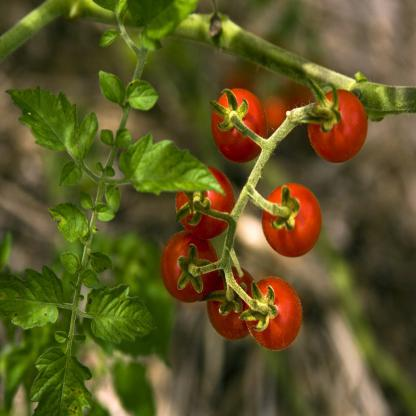tomato: (306, 83, 372, 167), (242, 272, 306, 356), (170, 162, 238, 240), (209, 84, 271, 168), (260, 181, 324, 262), (158, 225, 221, 306), (204, 264, 257, 343)
